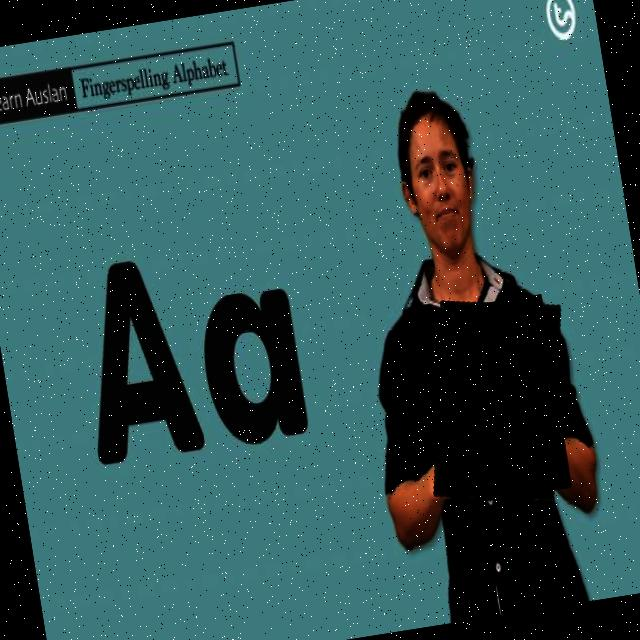A: (413, 289, 582, 513)
